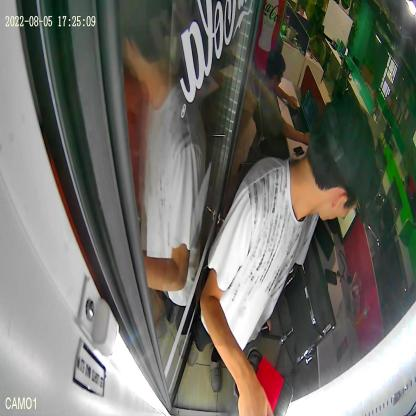red: (234, 346, 294, 416)
